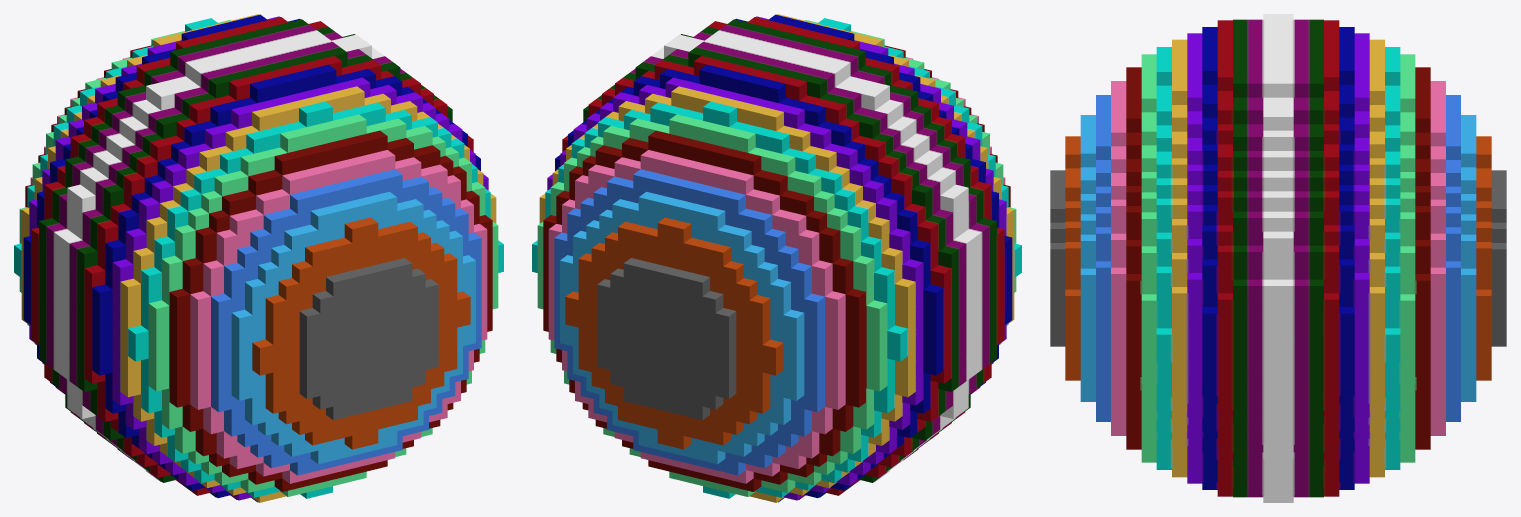
Rendered from Character_10.fbx.
The picture shows the model from 3 angles, left to right: view 1: azimuth 30°, elevation 25°; view 2: azimuth 150°, elevation 25°; view 3: azimuth 270°, elevation 25°; orthographic projection.
Parts seen in each view (by area): view 1: Character_10; view 2: Character_10; view 3: Character_10.
Boxes of the visible parts, x1,y1,x2,y2 form: Character_10: (14, 14, 503, 502); Character_10: (532, 14, 1021, 502); Character_10: (1050, 14, 1506, 502).
Size of the model in its own units: 30 by 30 by 30.
1 material, 1 textured.
